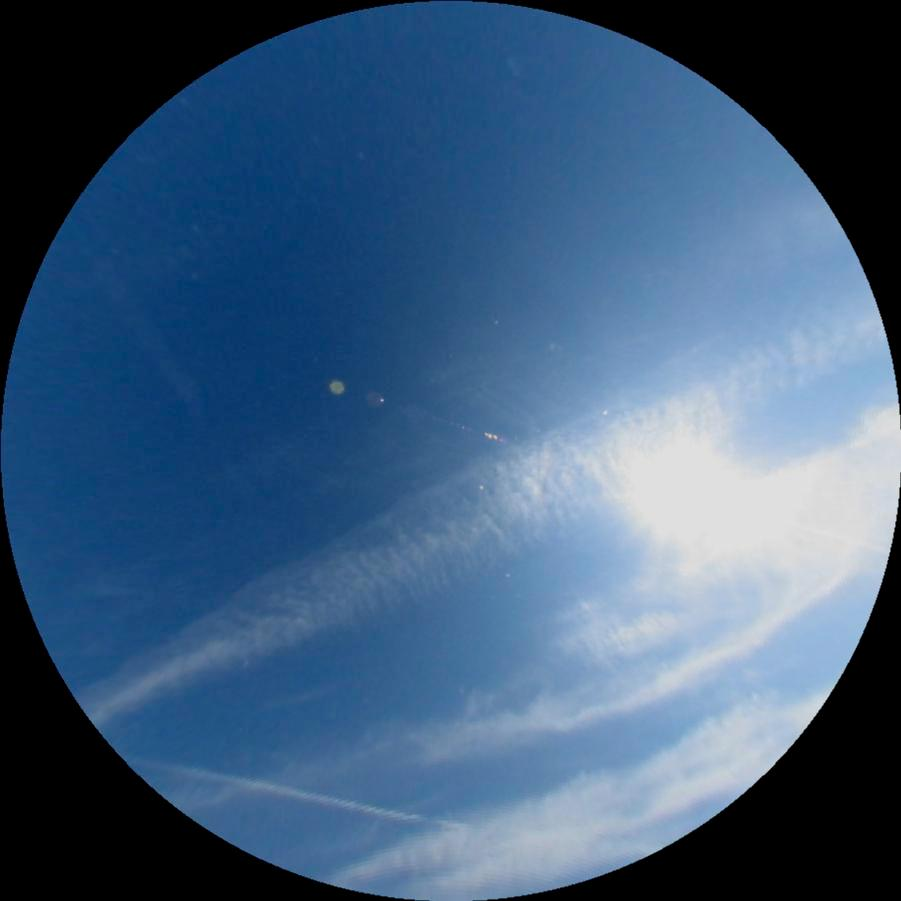contrail old: (120, 753, 465, 834)
contrail veryold: (68, 262, 898, 763)
sun: (634, 451, 791, 535)
